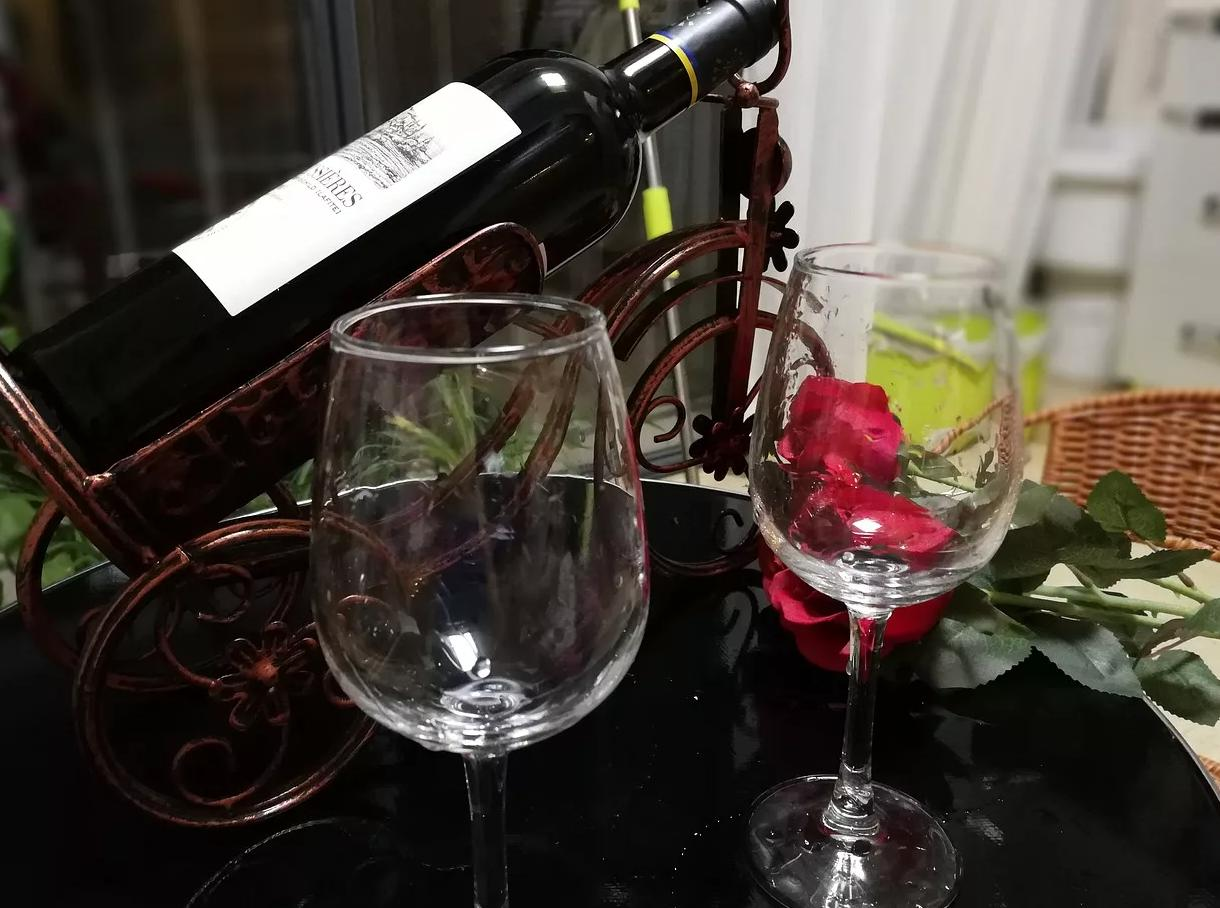wine bottle: (0, 1, 791, 482)
wine label: (173, 80, 523, 315)
